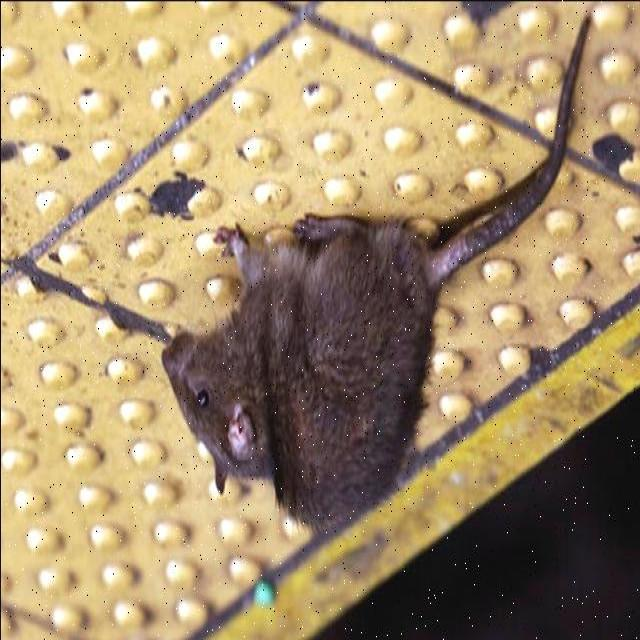rat: (160, 210, 450, 529)
